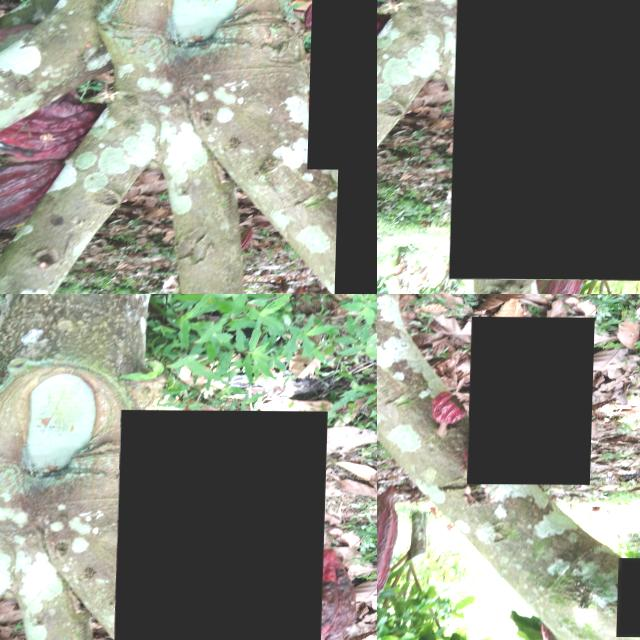Fitoftora: (113, 409, 328, 640), (470, 316, 597, 484)
Monilia: (452, 0, 640, 280), (309, 0, 377, 169)
Sana: (377, 500, 393, 615), (620, 557, 640, 636)
